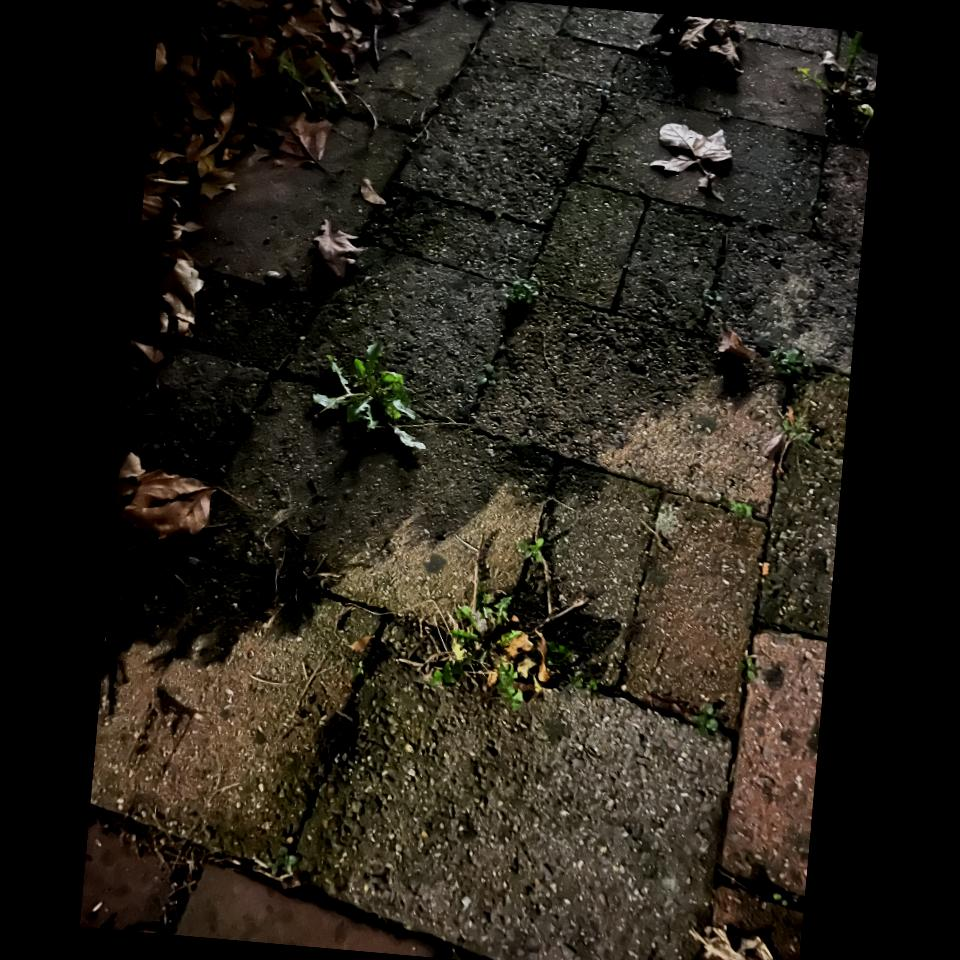weed: (419, 577, 523, 727), (763, 410, 810, 459)
